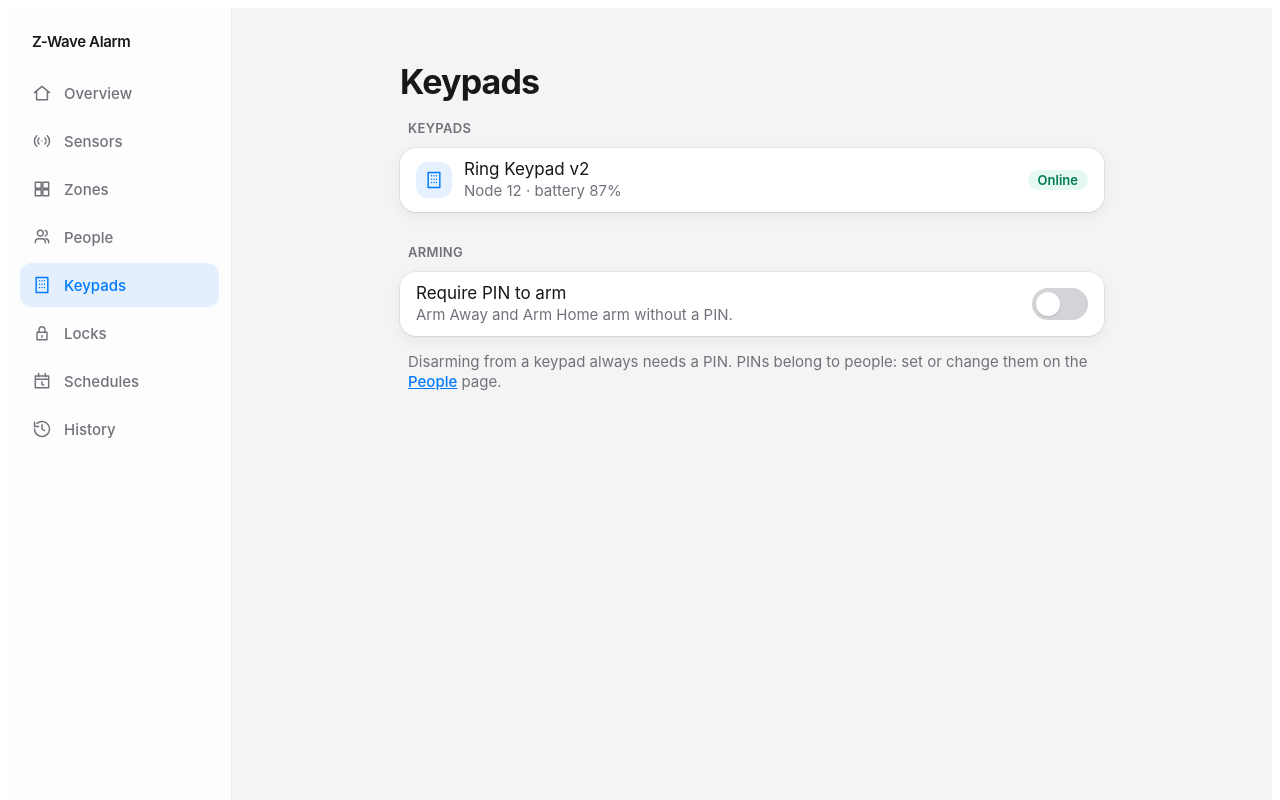
keypads › turns the PIN requirement on and sends it to the service
This screenshot has width=1280, height=800.
Click the switch named "Require PIN to arm" at (1060, 304), box [1032, 288, 1088, 320]
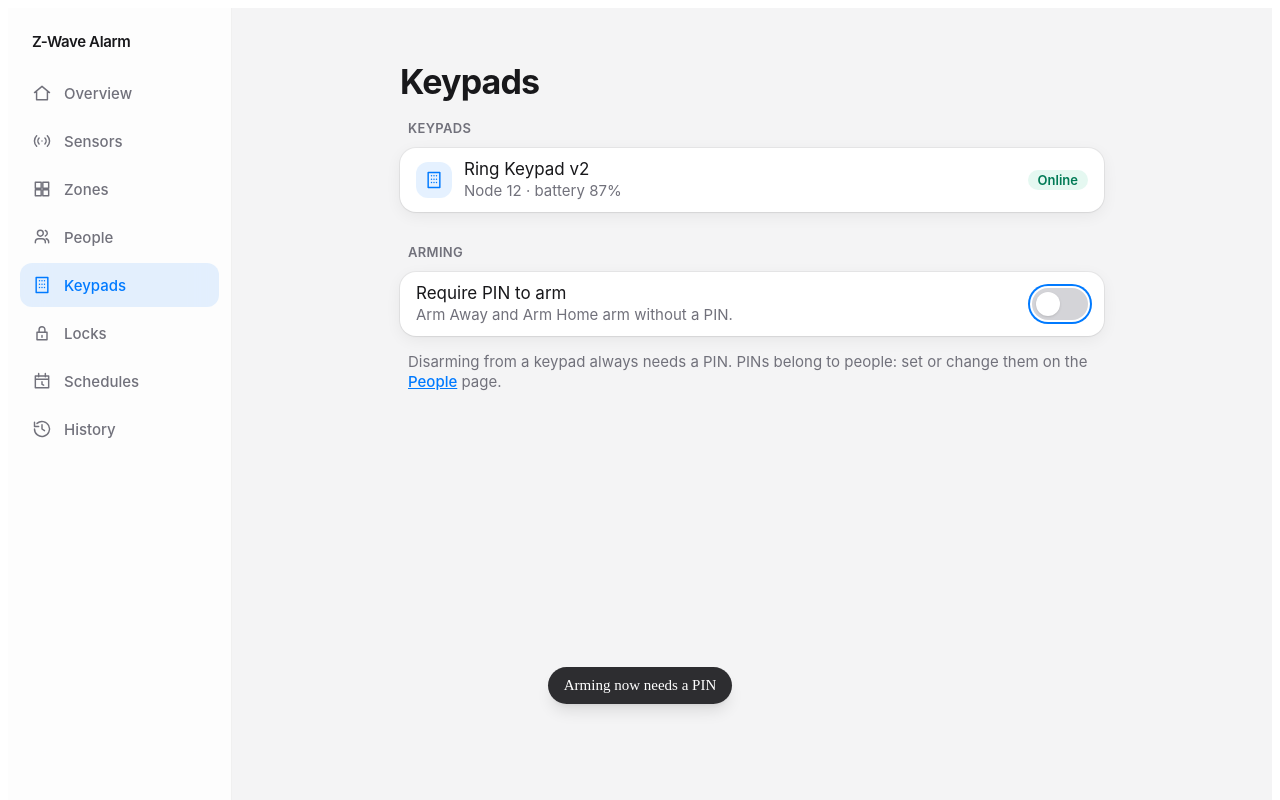
Expected: the text "Arming now needs a PIN" is shown, [548, 667, 732, 704]
